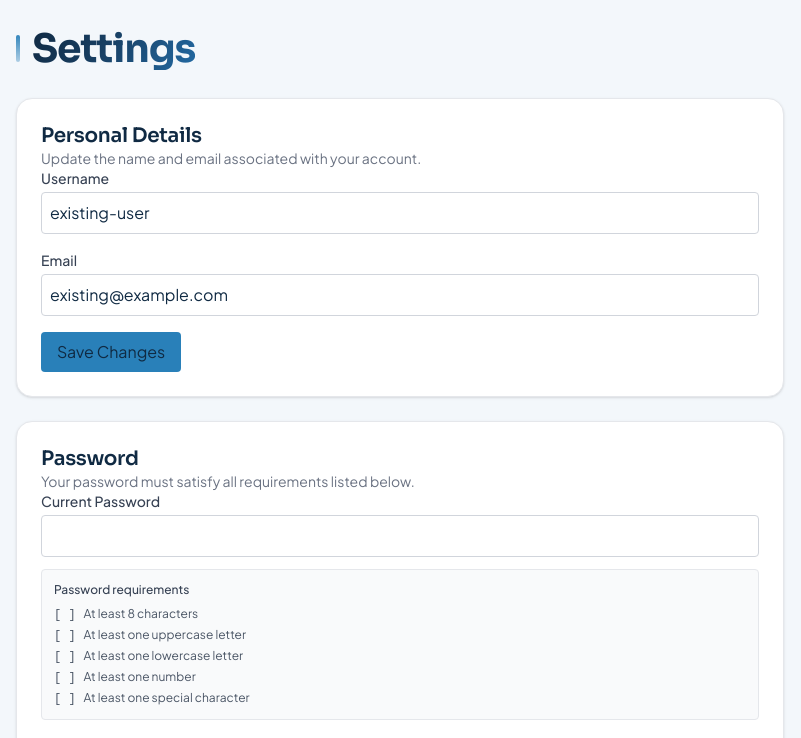
Settings page › shows backend missing requirements when API rejects password
Type "OldPass1!" into the password field labelled "Current Password".
click(400, 536); type("OldPass1!")  # box [41, 515, 759, 557]
(page scrolled)
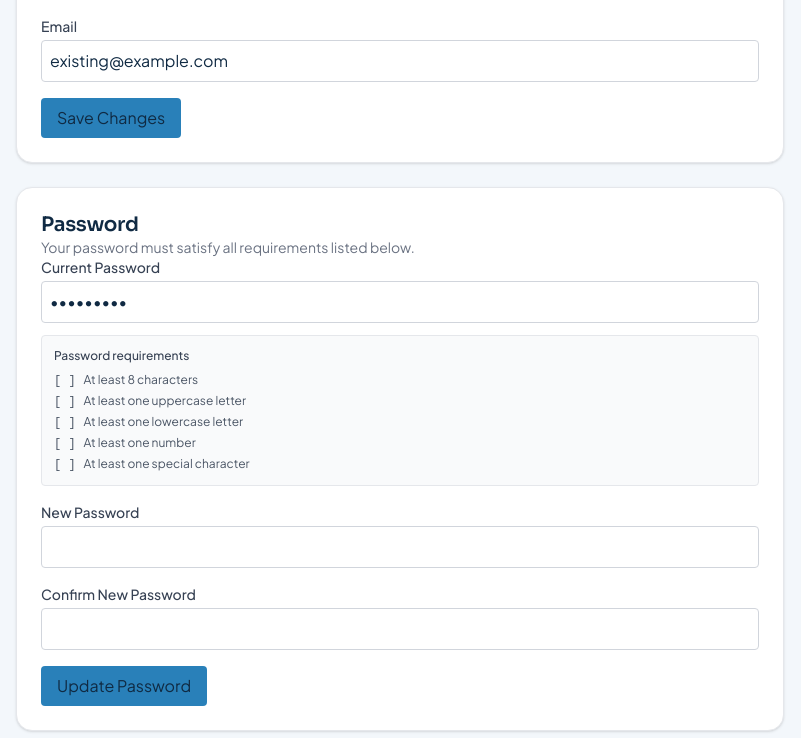
Type "NewPass1!" into the password field labelled "New Password".
click(400, 547); type("NewPass1!")  # box [41, 526, 759, 568]
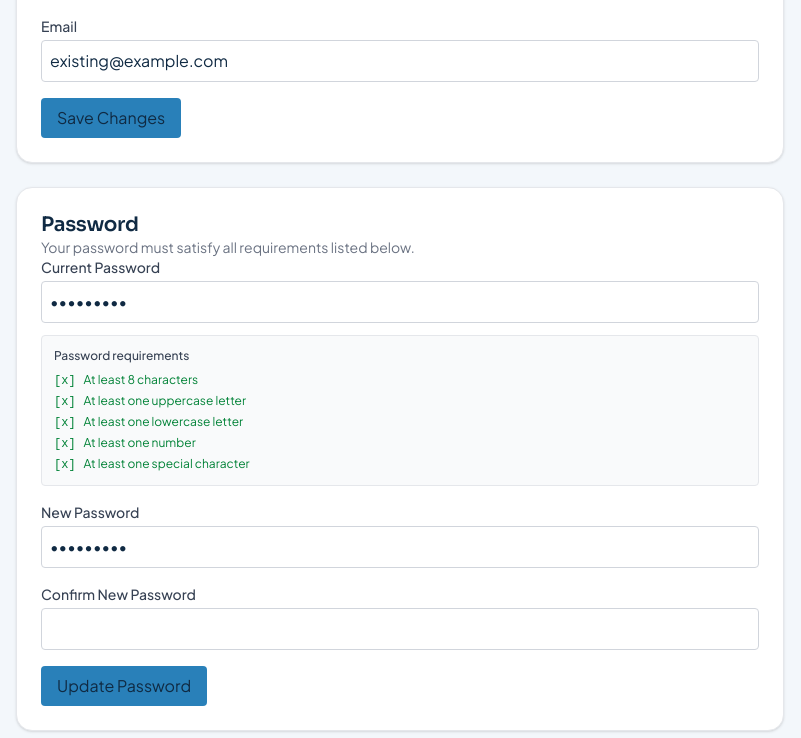
Type "NewPass1!" into the password field labelled "Confirm New Password".
click(400, 629); type("NewPass1!")  # box [41, 608, 759, 650]
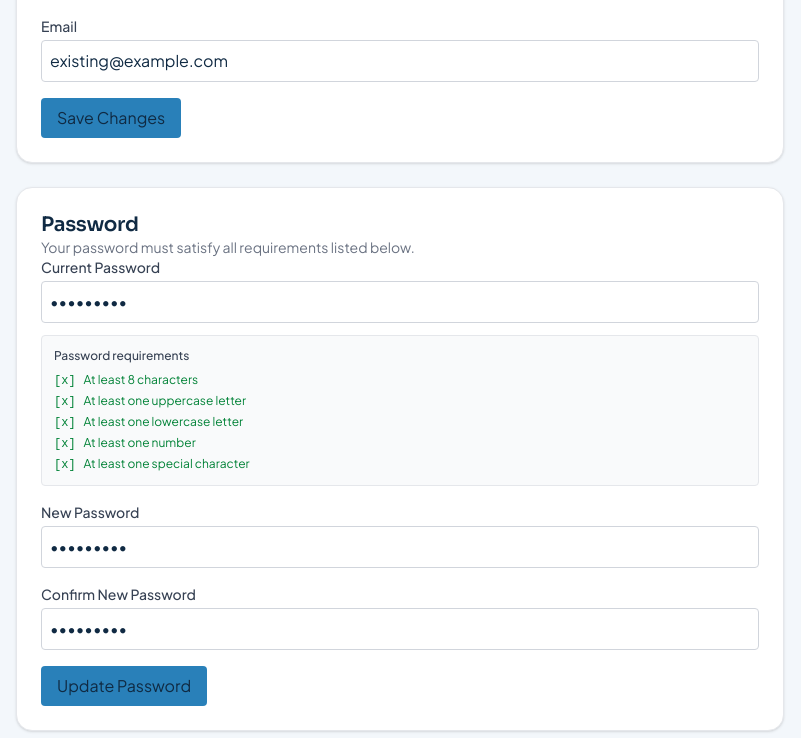
Click the button "Update Password".
click(124, 686)  # box [41, 666, 207, 706]
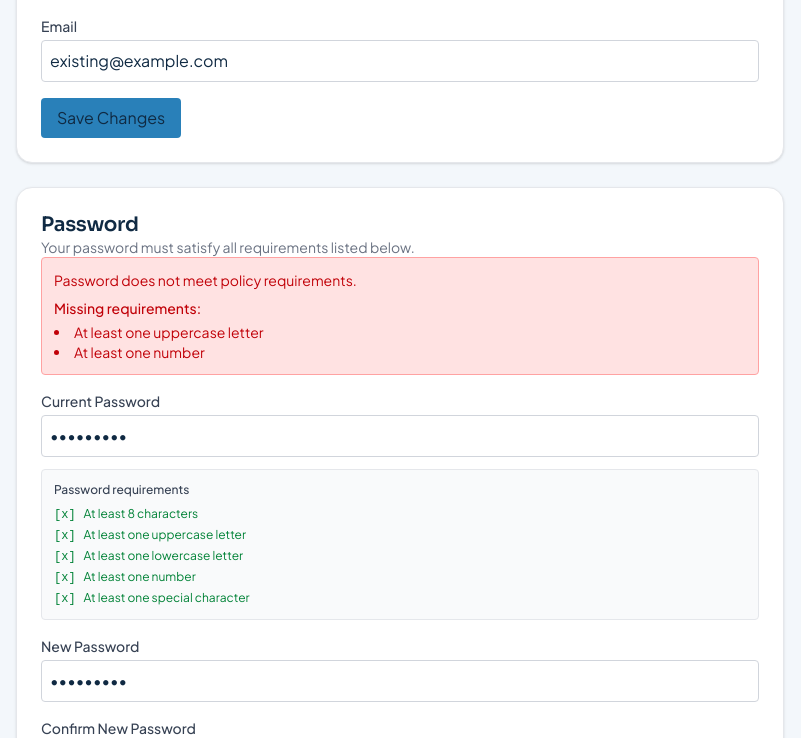
Expected: the text "Password does not meet policy requirements." is shown, [54, 271, 357, 289]
Expected: the list item "At least one uppercase letter" is shown, [74, 323, 264, 341]
Expected: the list item "At least one number" is shown, [74, 343, 205, 361]
